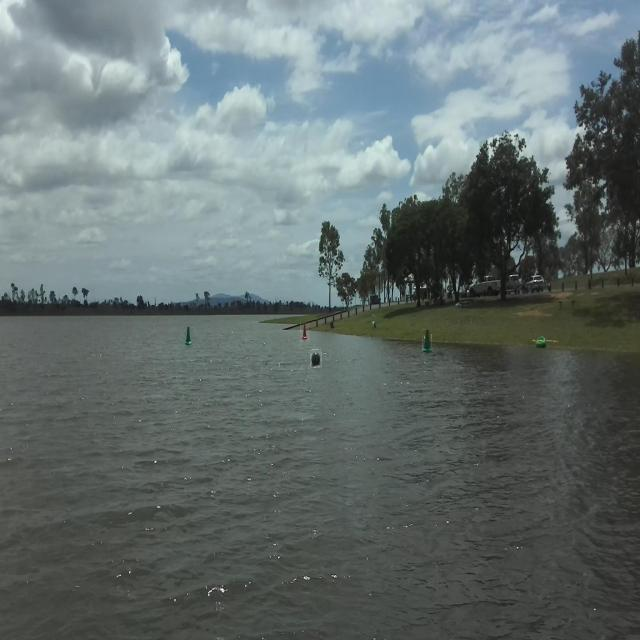Black_Buoy: (309, 350, 325, 368)
Green_Buoy: (180, 328, 198, 348), (419, 331, 434, 355)
Red_Buoy: (297, 321, 311, 343)
